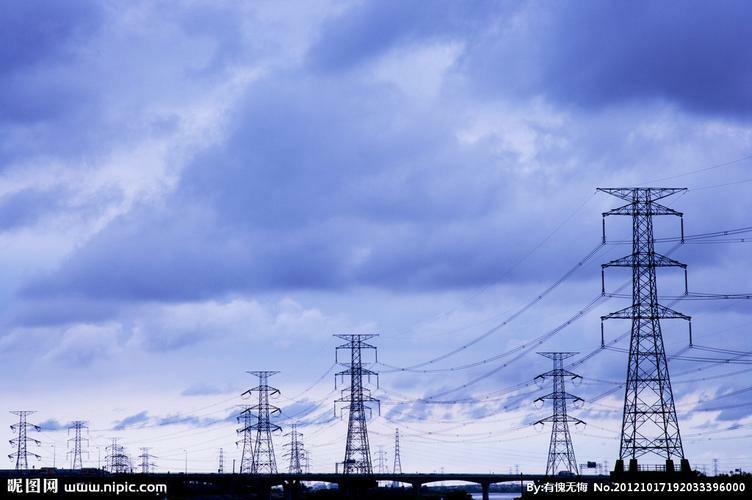power_tower: (583, 176, 702, 466), (525, 343, 596, 484), (331, 319, 385, 477), (248, 361, 289, 471), (4, 401, 51, 471), (62, 416, 89, 471), (96, 434, 129, 477), (390, 426, 409, 479), (134, 442, 159, 475), (214, 445, 231, 471)
